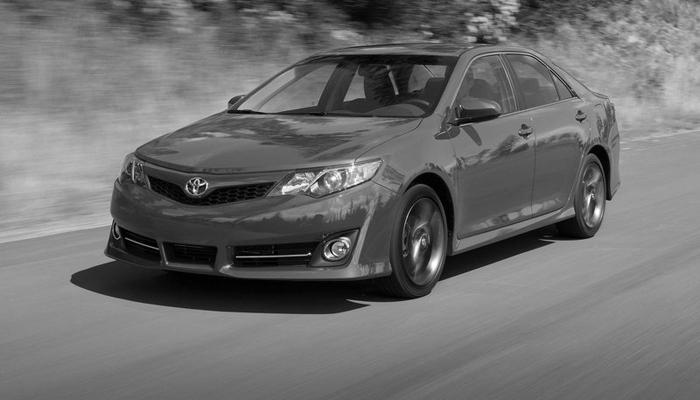car: (101, 41, 626, 304)
